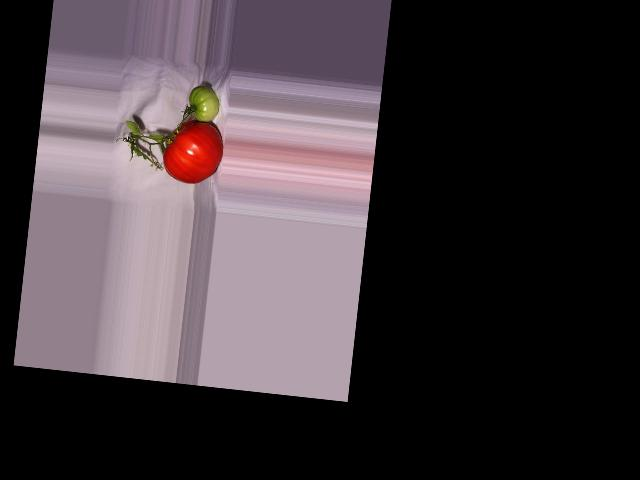tomato: (160, 116, 225, 186)
